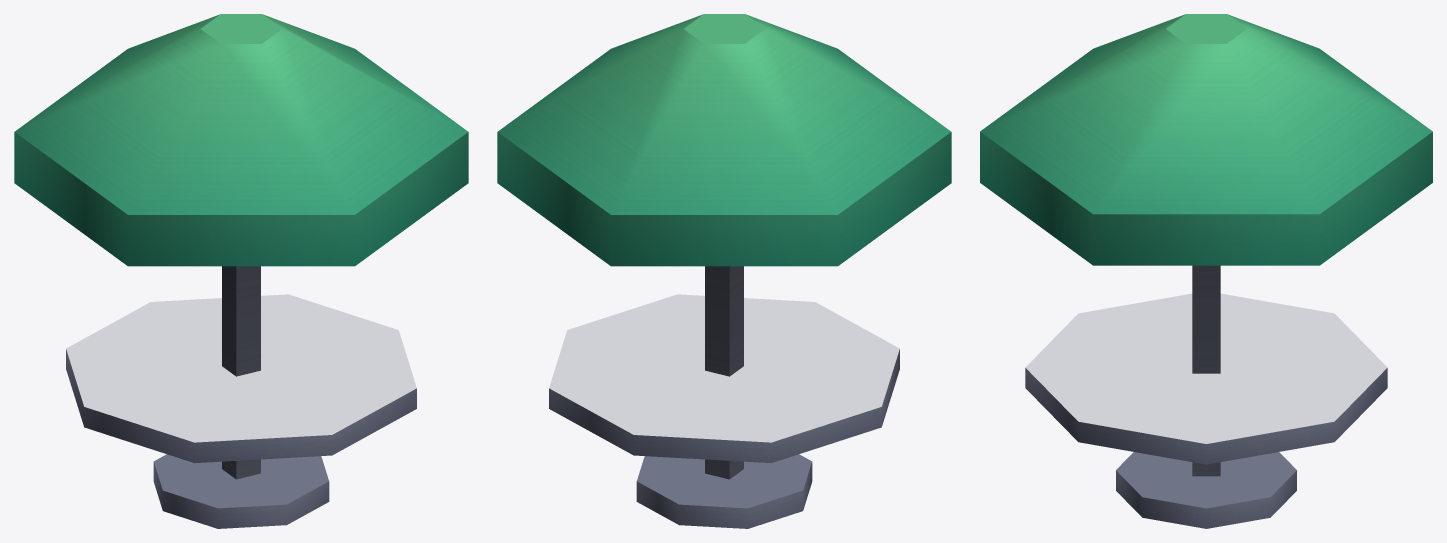
Rendered from parasol.glb.
3 views of the same model, side by side, from view 1: azimuth 30°, elevation 25°; view 2: azimuth 150°, elevation 25°; view 3: azimuth 270°, elevation 25° (orthographic).
Visible parts, largest first — view 1: detail-parasol-a; view 2: detail-parasol-a; view 3: detail-parasol-a.
Part boxes in pixels (x1,y1,x2,y2): detail-parasol-a: (14,14,468,528); detail-parasol-a: (497,14,951,528); detail-parasol-a: (980,14,1432,528).
Size of the model in its own units: 0.3464 by 0.45 by 0.4.
Materials: 1 (1 with a texture image).
